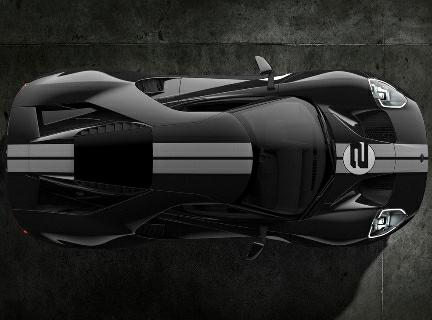福特-GT: (4, 50, 432, 265)
